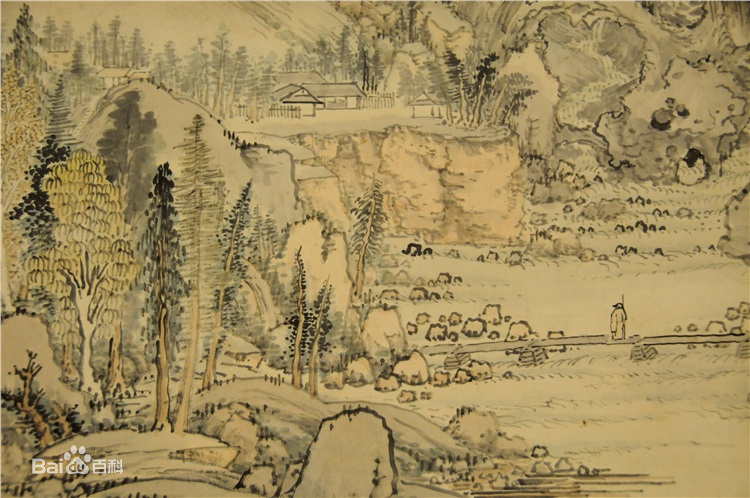bridge: (420, 332, 609, 351), (633, 334, 750, 348)
hill: (543, 3, 747, 167), (213, 390, 481, 493), (20, 437, 217, 492), (233, 130, 326, 196), (92, 106, 176, 165)
house: (279, 72, 355, 110)
man: (613, 299, 625, 333)
river: (505, 371, 750, 493), (467, 265, 600, 329), (638, 263, 750, 332)
tree: (47, 173, 148, 375), (3, 16, 55, 299), (87, 28, 274, 106), (186, 124, 227, 381), (143, 175, 183, 427), (451, 62, 528, 124), (294, 262, 328, 383), (21, 369, 72, 434), (313, 43, 380, 82), (358, 183, 377, 300), (236, 207, 276, 253), (381, 11, 434, 40)
